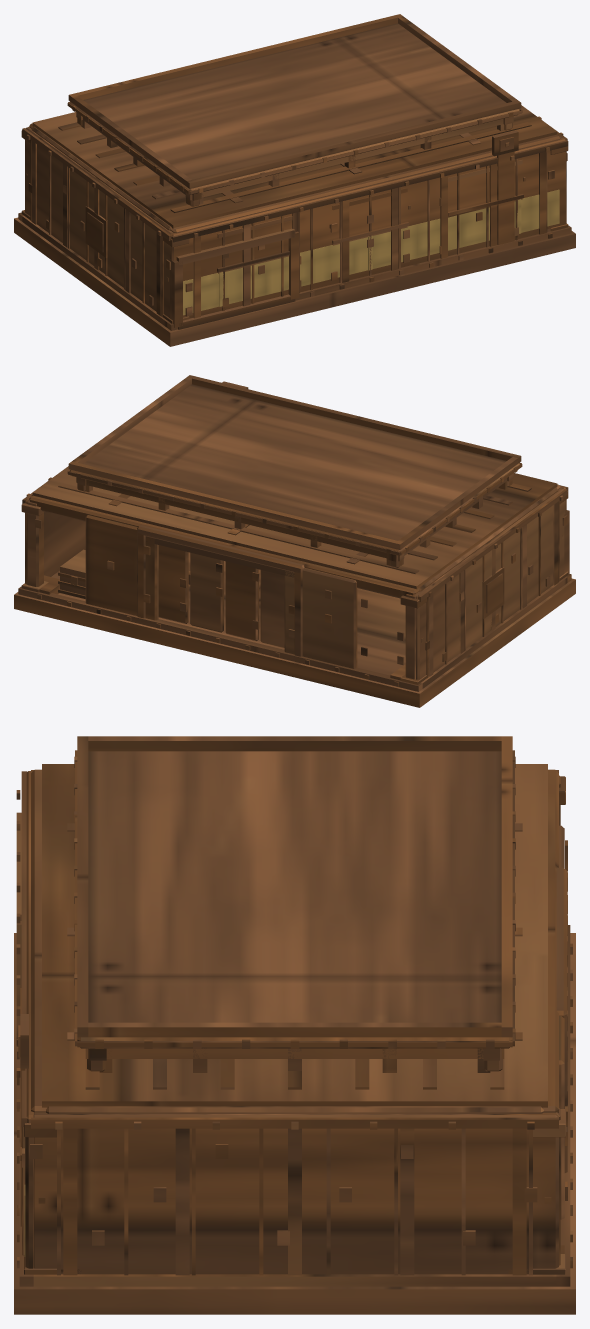
3 views of the same model, one above another, from view 1: azimuth 30°, elevation 25°; view 2: azimuth 150°, elevation 25°; view 3: azimuth 270°, elevation 25° (orthographic). The views are drawn at different scales.
Parts seen in each view (by area): view 1: SM_HDBF_BoxFarm_Intermediate_LOD0; view 2: SM_HDBF_BoxFarm_Intermediate_LOD0; view 3: SM_HDBF_BoxFarm_Intermediate_LOD0.
Part boxes in pixels (x1=…): SM_HDBF_BoxFarm_Intermediate_LOD0: x1=14, y1=14, x2=575, y2=346; SM_HDBF_BoxFarm_Intermediate_LOD0: x1=14, y1=375, x2=575, y2=707; SM_HDBF_BoxFarm_Intermediate_LOD0: x1=14, y1=736, x2=575, y2=1314.
Size of the model in its own units: 3 by 1 by 2.
Materials: 3 (3 with a texture image).
